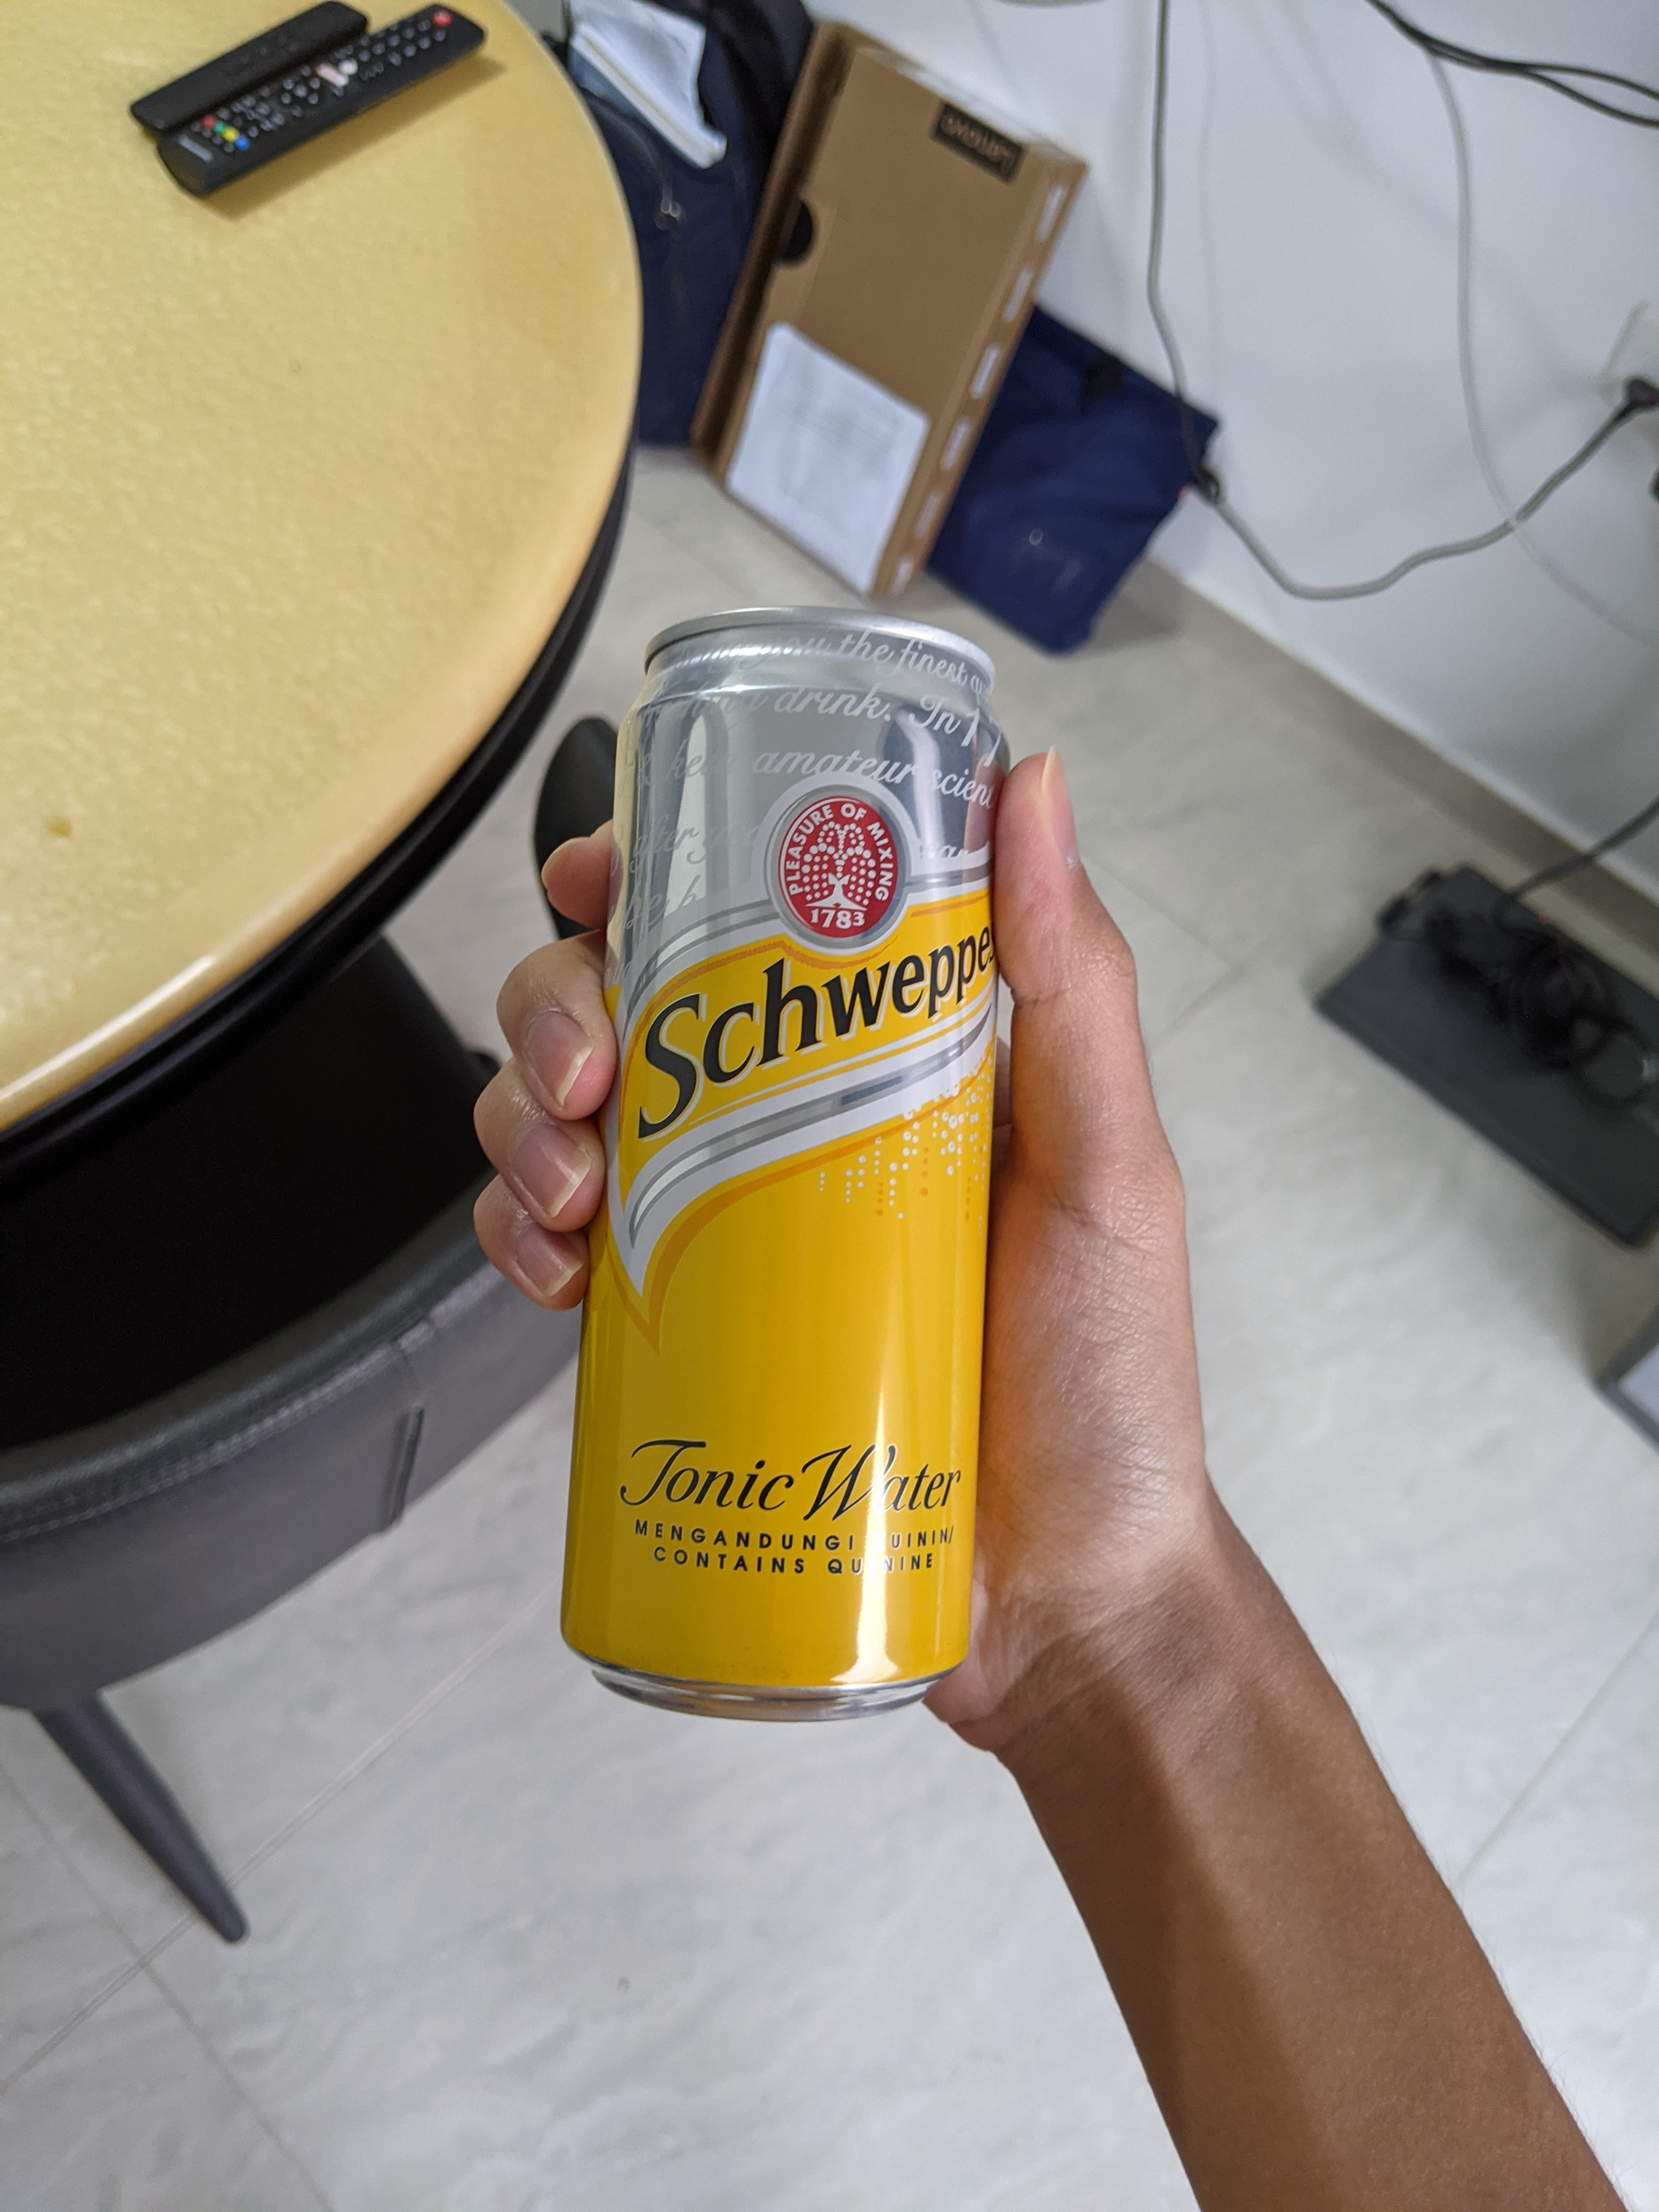schweppes drink can tonic water: (551, 597, 1021, 1737)
